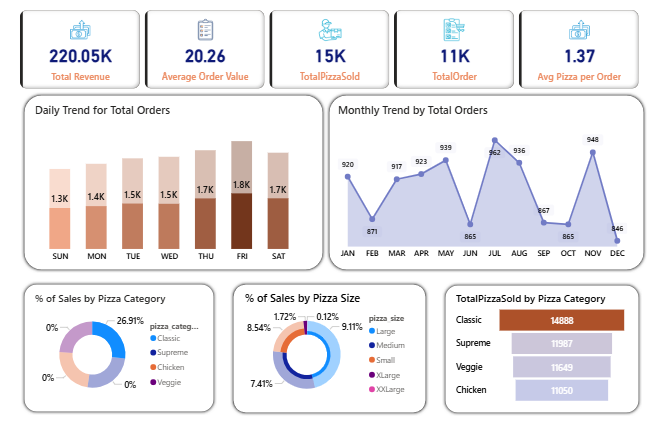

What the dashboard file says about the page in this screenshot:
{"tool":"powerbi","page":{"name":"Home","canvas":[1550,820],"ordinal":0},"visuals":[{"type":"cardVisual","fields":{"Data":["pizza_sales.Total Revenue","pizza_sales.Avg Order Value","pizza_sales.Total orders","pizza_sales.Total Pizzas Sold","pizza_sales.Avg Pizzas Per Order"]},"box":[375.7,110,1144.3,130],"z":0},{"type":"shape","box":[32,26,1488,70],"z":1000},{"type":"textbox","box":[605.7,32.9,340,57.1],"z":2000},{"type":"shape","box":[375.7,240,484.3,310],"z":3000},{"type":"columnChart","fields":{"Category":["pizza_sales.Order Day"],"Y":["pizza_sales.Total orders"]},"box":[390,264.3,445.7,260],"z":4000},{"type":"shape","box":[848.6,240,671.4,310],"z":5000},{"type":"areaChart","fields":{"Category":["pizza_sales.order_date.Variation.Date Hierarchy.Month"],"Y":["pizza_sales.Total orders"]},"box":[860,264.3,638.6,260],"z":6000},{"type":"shape","box":[375.7,550,360,270],"z":7000},{"type":"shape","box":[741.4,550,385.7,270],"z":8000},{"type":"shape","box":[1137.1,550,382.9,270],"z":9000},{"type":"pieChart","fields":{"Category":["pizza_sales.pizza_category"],"Y":["pizza_sales.Total Revenue"]},"box":[390,570,325.7,225.7],"z":10000},{"type":"pieChart","fields":{"Y":["pizza_sales.Total Revenue"],"Category":["pizza_sales.pizza_size"]},"box":[775.7,570,321.4,225.7],"z":11000},{"type":"funnel","fields":{"Category":["pizza_sales.pizza_category"],"Y":["pizza_sales.Total Pizzas Sold"]},"box":[1164.3,570,334.3,225.7],"z":12000},{"type":"slicer","fields":{"Values":["pizza_sales.order_date"]},"box":[17.1,134.3,344.3,150],"z":13000},{"type":"pageNavigator","box":[17.1,344.3,274.3,50],"z":13001},{"type":"pageNavigator","box":[17.1,424.3,274.3,50],"z":13002}]}

Visuals, with their boxes on the page's 1550x820 design canvas (x1, y1, x2, y2). These are canvas units, not pixel positions in the 665x428 screenshot, which may show the page scaled, cropped or inside an application window:
cardVisual - pizza_sales.Total Revenue x pizza_sales.Avg Order Value: {"left": 376, "top": 110, "right": 1520, "bottom": 240}
shape: {"left": 32, "top": 26, "right": 1520, "bottom": 96}
textbox: {"left": 606, "top": 33, "right": 946, "bottom": 90}
shape: {"left": 376, "top": 240, "right": 860, "bottom": 550}
columnChart - pizza_sales.Order Day x pizza_sales.Total orders: {"left": 390, "top": 264, "right": 836, "bottom": 524}
shape: {"left": 849, "top": 240, "right": 1520, "bottom": 550}
areaChart - pizza_sales.order_date.Variation.Date Hierarchy.Month x pizza_sales.Total orders: {"left": 860, "top": 264, "right": 1499, "bottom": 524}
shape: {"left": 376, "top": 550, "right": 736, "bottom": 820}
shape: {"left": 741, "top": 550, "right": 1127, "bottom": 820}
shape: {"left": 1137, "top": 550, "right": 1520, "bottom": 820}
pieChart - pizza_sales.pizza_category x pizza_sales.Total Revenue: {"left": 390, "top": 570, "right": 716, "bottom": 796}
pieChart - pizza_sales.Total Revenue x pizza_sales.pizza_size: {"left": 776, "top": 570, "right": 1097, "bottom": 796}
funnel - pizza_sales.pizza_category x pizza_sales.Total Pizzas Sold: {"left": 1164, "top": 570, "right": 1499, "bottom": 796}
slicer - pizza_sales.order_date: {"left": 17, "top": 134, "right": 361, "bottom": 284}
pageNavigator: {"left": 17, "top": 344, "right": 291, "bottom": 394}
pageNavigator: {"left": 17, "top": 424, "right": 291, "bottom": 474}
